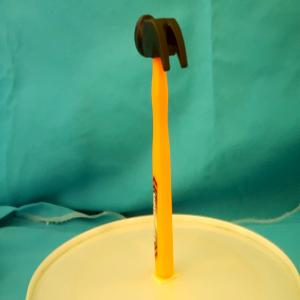martelo: (134, 13, 188, 282)
